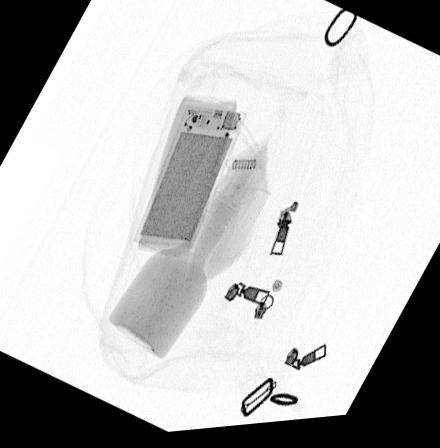Powerbank: (132, 106, 247, 254)
